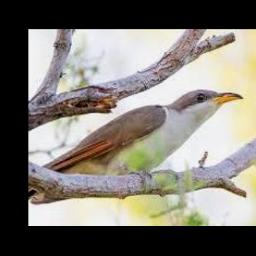Cuckoo: (40, 90, 243, 185)
